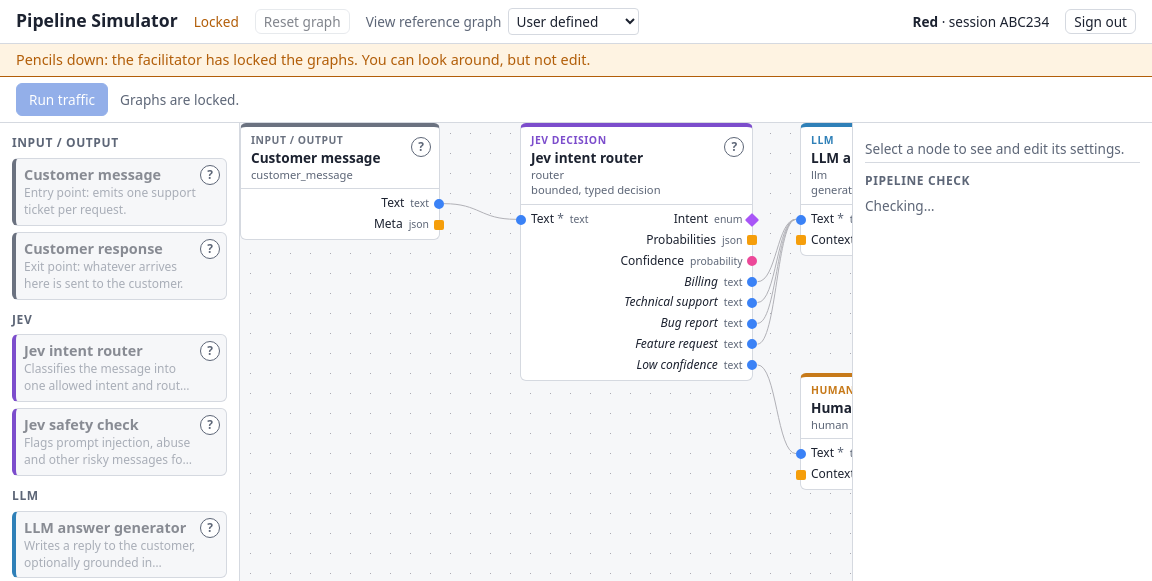
Test: the reveal on the team page › goes back to the team graph when the session is unlocked
The image size is (1152, 581).
Select "Strong" in the dropdown labelled "View reference graph" at (573, 22), box [508,8,638,35]
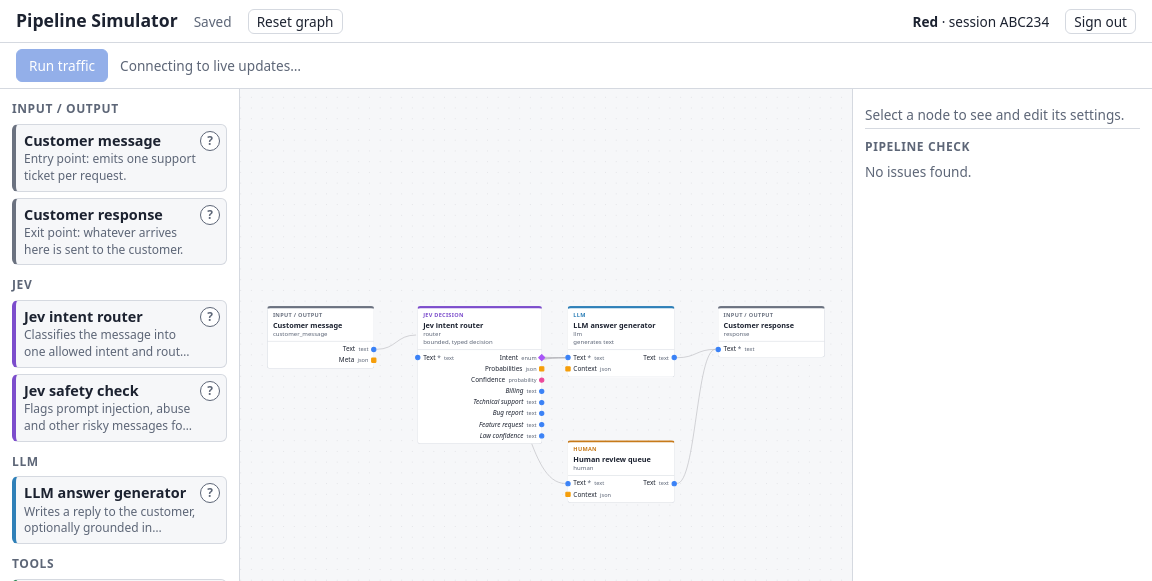
Expected: the dropdown is gone
